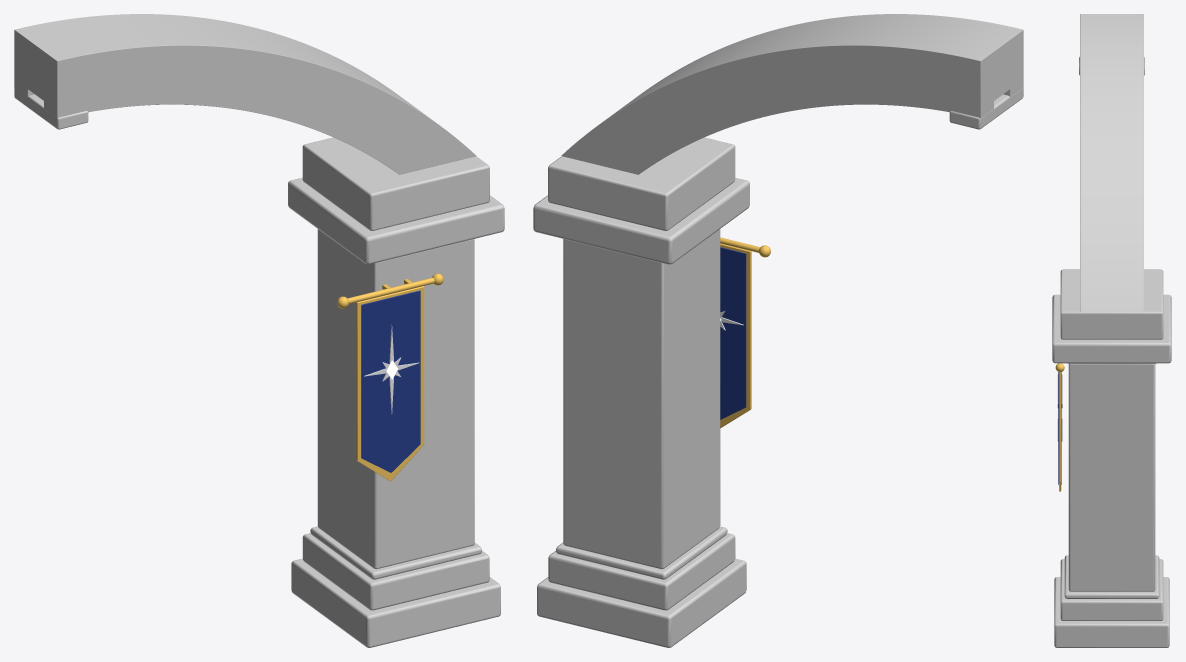
Rendered from Lobby_ArchSpanMirrored.fbx.
The picture shows the model from 3 angles, left to right: view 1: azimuth 30°, elevation 25°; view 2: azimuth 150°, elevation 25°; view 3: azimuth 270°, elevation 25°; orthographic projection. The views are drawn at different scales.
Parts seen in each view (by area): view 1: Lobby_ArchSpanMirrored__Marble, Lobby_ArchSpanMirrored__NavyCloth, Lobby_ArchSpanMirrored__Gold; view 2: Lobby_ArchSpanMirrored__Marble, Lobby_ArchSpanMirrored__NavyCloth, Lobby_ArchSpanMirrored__Gold; view 3: Lobby_ArchSpanMirrored__Marble, Lobby_ArchSpanMirrored__Gold, Lobby_ArchSpanMirrored__WhiteEmblem, Lobby_ArchSpanMirrored__NavyCloth.
Boxes of the visible parts, x1,y1,x2,y2 form: Lobby_ArchSpanMirrored__Marble: (14, 14, 504, 647); Lobby_ArchSpanMirrored__NavyCloth: (361, 290, 420, 472); Lobby_ArchSpanMirrored__Gold: (337, 273, 443, 481); Lobby_ArchSpanMirrored__Marble: (533, 14, 1023, 647); Lobby_ArchSpanMirrored__NavyCloth: (720, 247, 746, 419); Lobby_ArchSpanMirrored__Gold: (720, 237, 770, 428); Lobby_ArchSpanMirrored__Marble: (1052, 14, 1171, 647); Lobby_ArchSpanMirrored__Gold: (1055, 363, 1064, 491); Lobby_ArchSpanMirrored__WhiteEmblem: (1057, 374, 1062, 441); Lobby_ArchSpanMirrored__NavyCloth: (1058, 372, 1061, 484).
Size of the model in its own units: 17.9 by 25.75 by 5.8.
